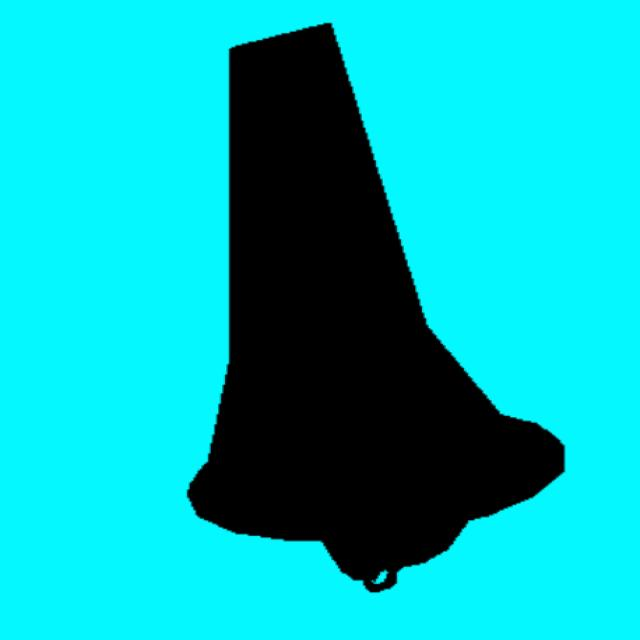BlackBuoy: (184, 23, 563, 595)
